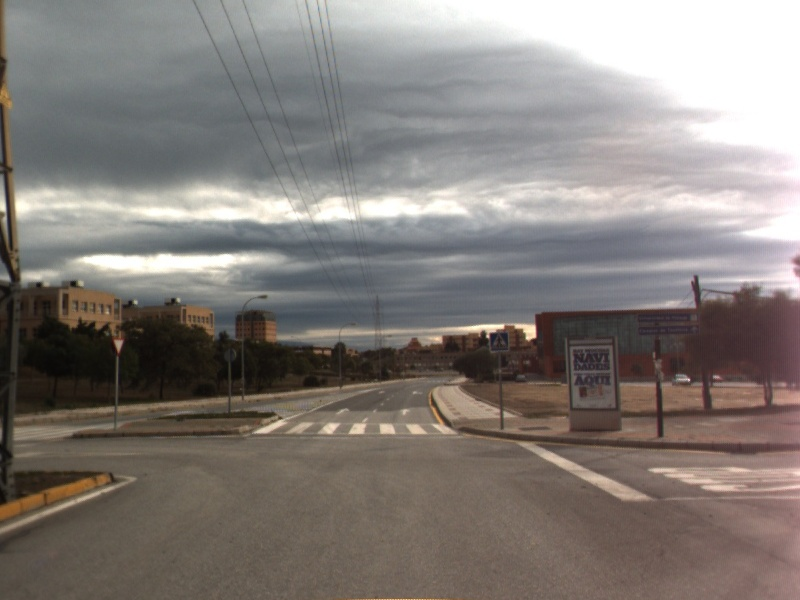STRAIGHT: (334, 406, 352, 417), (397, 405, 413, 417)
